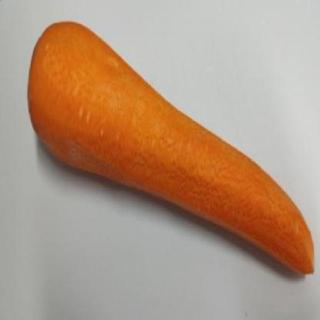carrot: (22, 17, 315, 289)
